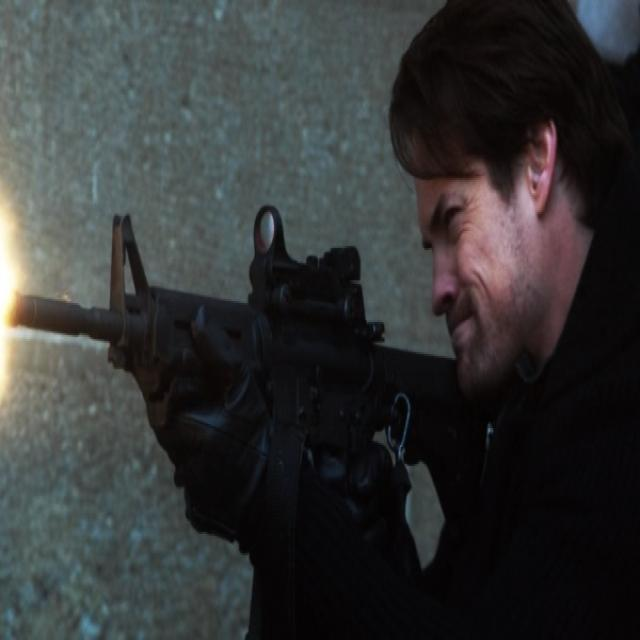rifle: (1, 190, 472, 517)
